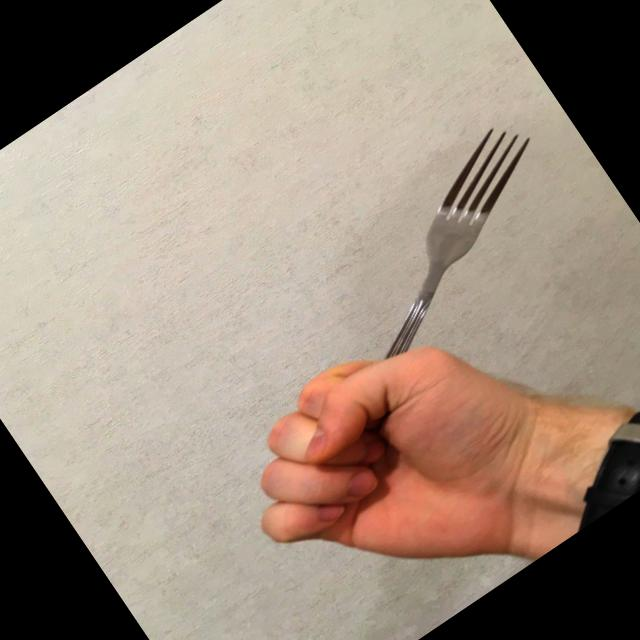fork: (244, 110, 608, 434)
